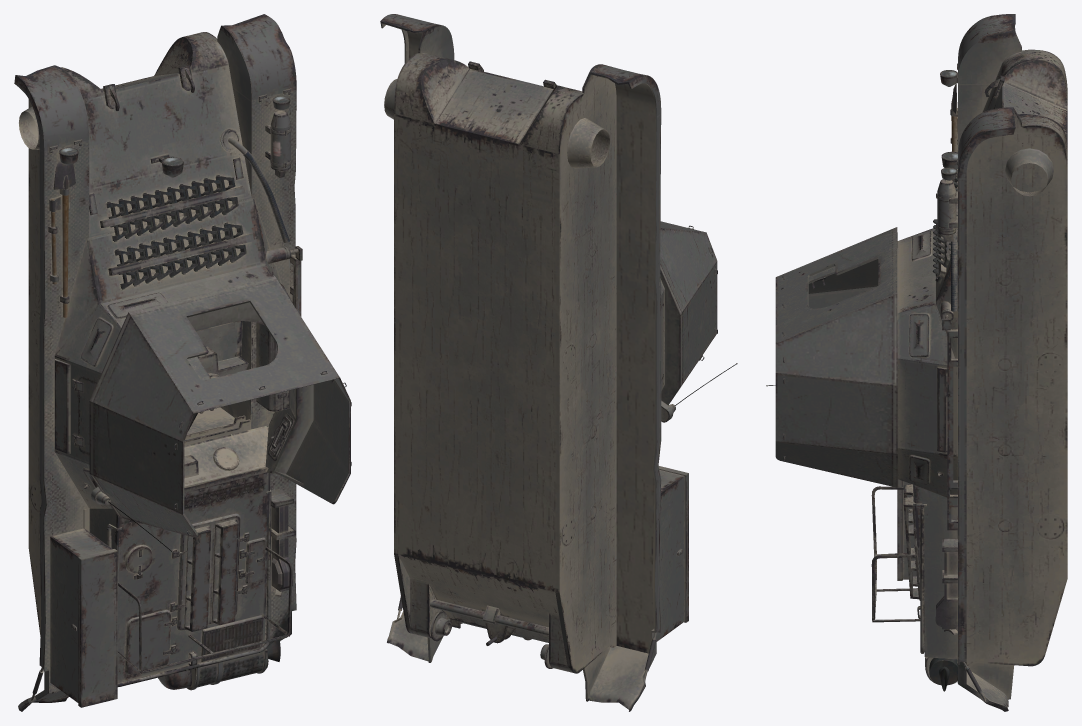
Rendered from Hull.glb.
The picture shows the model from 3 angles, left to right: view 1: azimuth 30°, elevation 25°; view 2: azimuth 150°, elevation 25°; view 3: azimuth 270°, elevation 25°; orthographic projection. The views are drawn at different scales.
Parts seen in each view (by area): view 1: set_0_group_0; view 2: set_0_group_0; view 3: set_0_group_0.
Part boxes in pixels (x1,y1,x2,y2): set_0_group_0: (14, 14, 351, 711); set_0_group_0: (380, 14, 737, 711); set_0_group_0: (766, 14, 1067, 711).
Size of the model in its own units: 1.85 by 4.42 by 2.04.
1 material, 1 textured.
